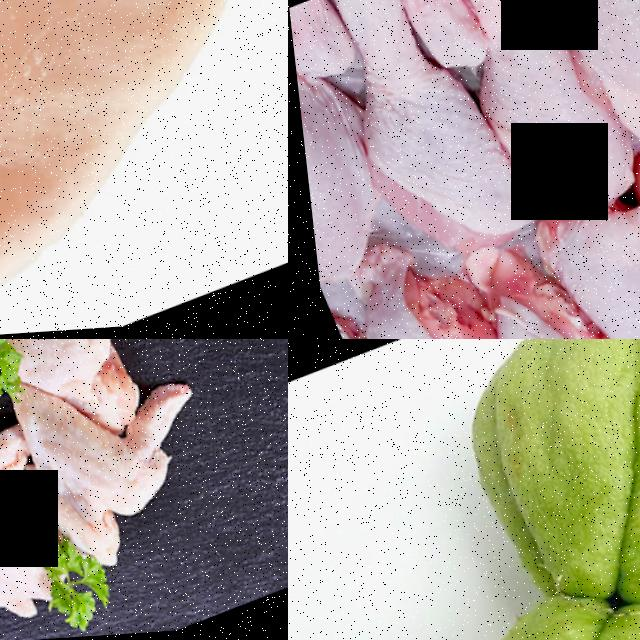chayote: (420, 339, 640, 614)
chicken breast: (0, 0, 288, 339)
chicken thigh: (295, 0, 525, 278), (413, 0, 626, 240), (288, 0, 406, 303), (326, 241, 543, 339), (524, 0, 640, 180), (536, 194, 640, 339), (463, 256, 640, 339)
chicken wing: (0, 339, 229, 579), (0, 428, 80, 640)
